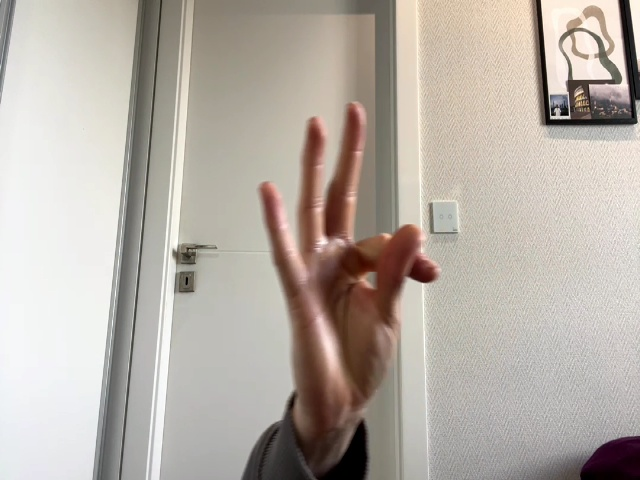T: (260, 103, 441, 392)
